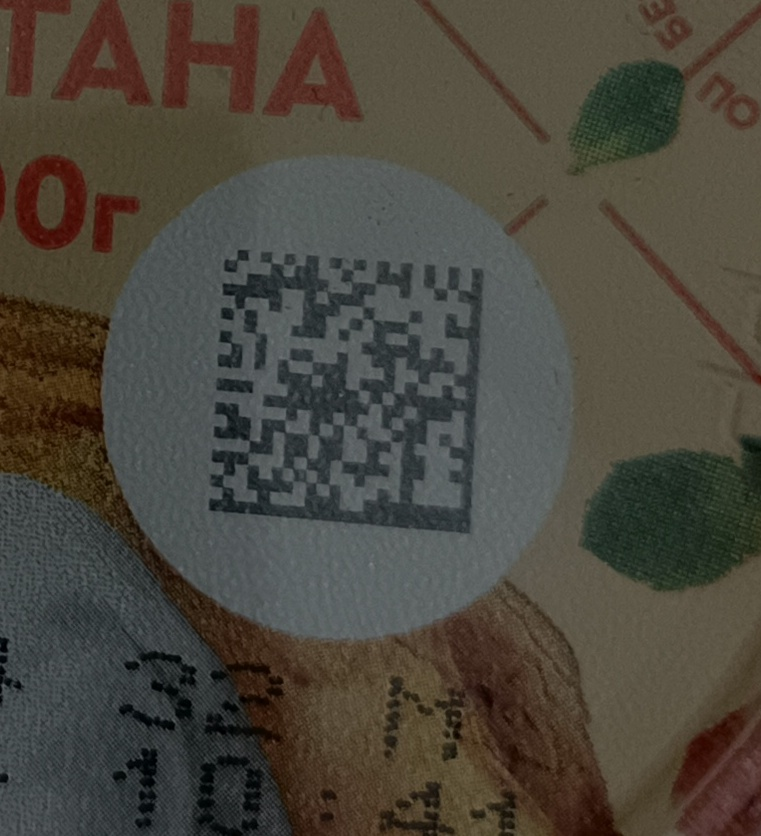2d: (207, 241, 489, 534)
